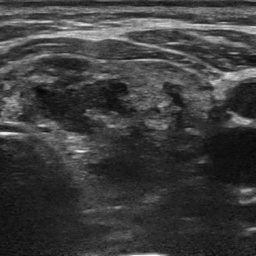mass: (4, 54, 210, 206)
